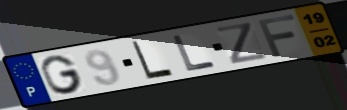9: (84, 48, 123, 88)
F: (255, 12, 298, 59)
G: (39, 54, 86, 96)
L: (130, 39, 176, 81), (170, 33, 219, 72)
Z: (214, 20, 272, 66)
